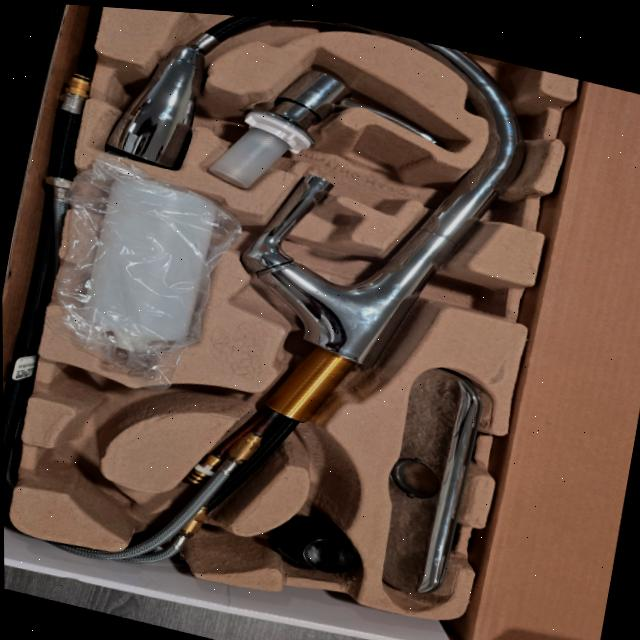1: (130, 23, 524, 567), (107, 16, 294, 170)
2: (205, 64, 435, 191)
3: (84, 175, 221, 372)
4: (385, 367, 485, 595)
5: (269, 514, 358, 572)
6m: (35, 437, 136, 522)
7m: (53, 366, 196, 441)
